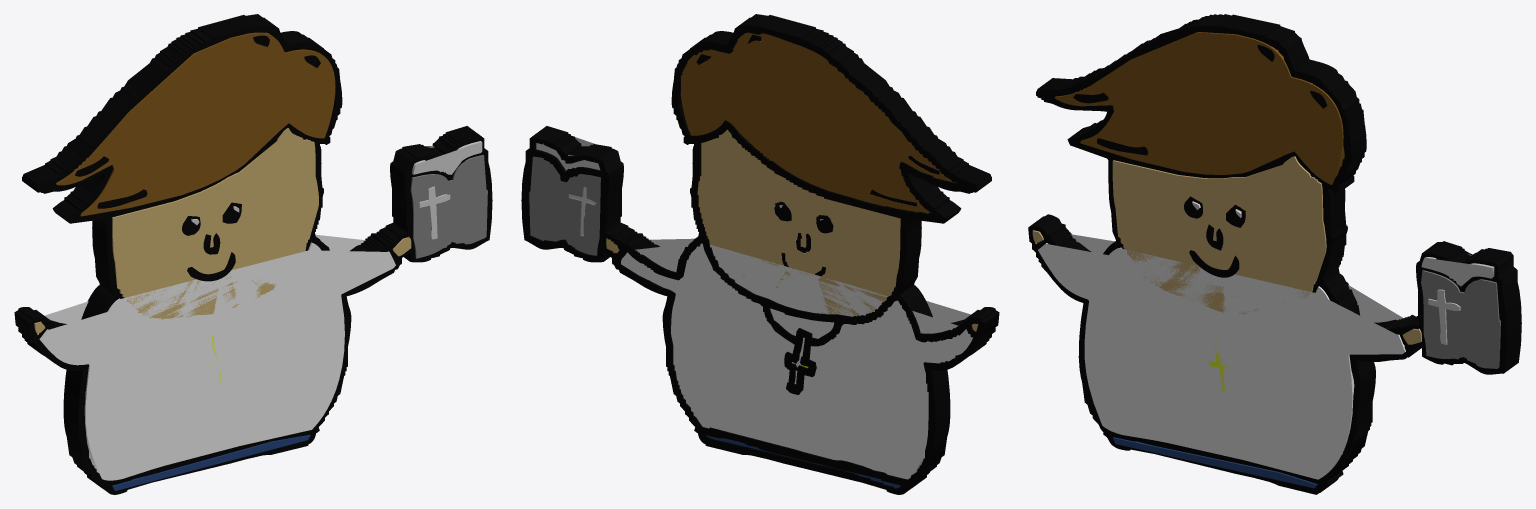
Rendered from christleaflet.fbx.
3 renders of one model, left to right at view 1: azimuth 30°, elevation 25°; view 2: azimuth 150°, elevation 25°; view 3: azimuth 330°, elevation 25°, orthographic. The views are drawn at different scales.
Visible parts, largest first — view 1: no_change, change; view 2: no_change, change; view 3: no_change, change.
Boxes of the visible parts, x1,y1,x2,y2 form: no_change: [14, 14, 492, 494]; change: [39, 234, 395, 480]; no_change: [521, 14, 999, 494]; change: [621, 238, 972, 479]; no_change: [1028, 14, 1521, 494]; change: [1038, 234, 1405, 479].
Bounding box in the file's own units: 363 × 326 × 22.85.
